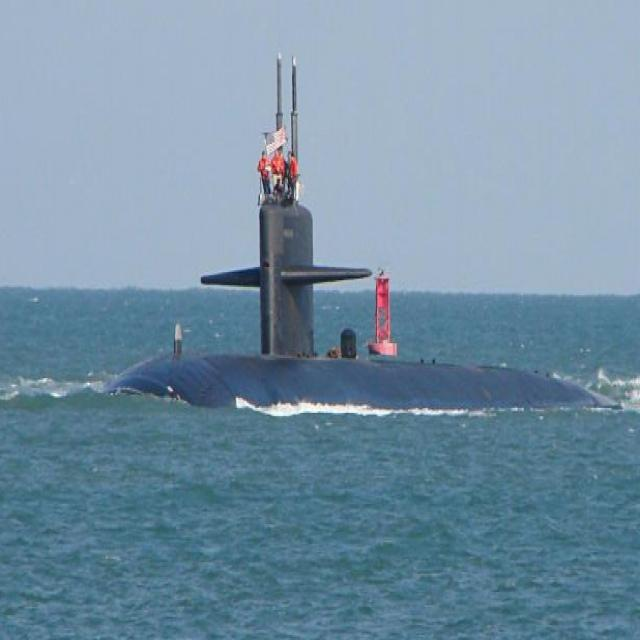submarine: (84, 200, 640, 406)
